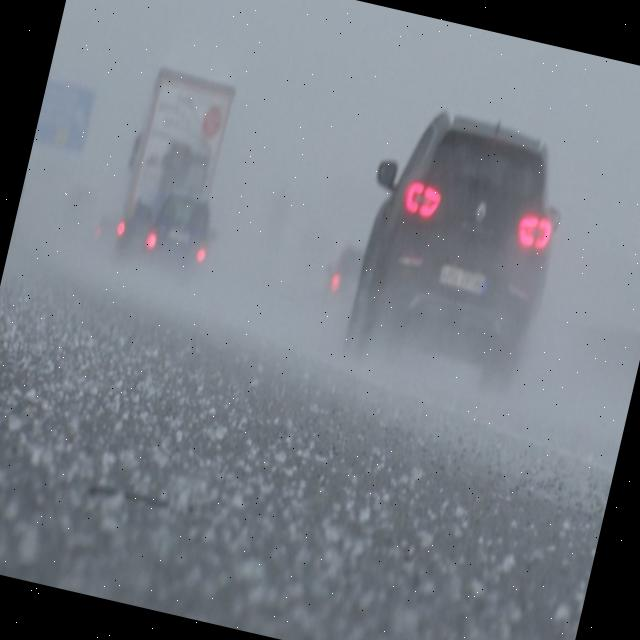bus: (106, 63, 236, 288)
car: (330, 100, 582, 410), (139, 185, 226, 288), (311, 236, 365, 328), (89, 199, 122, 257)
